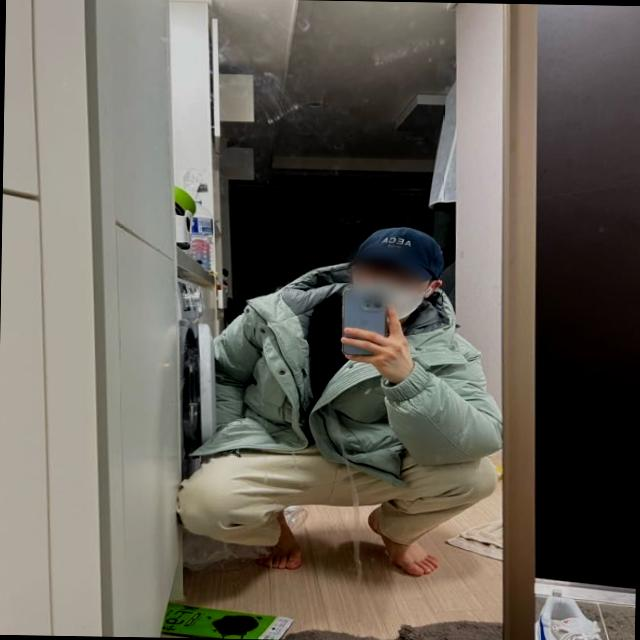cottonpants: (176, 440, 497, 550)
padding: (202, 262, 502, 474)
